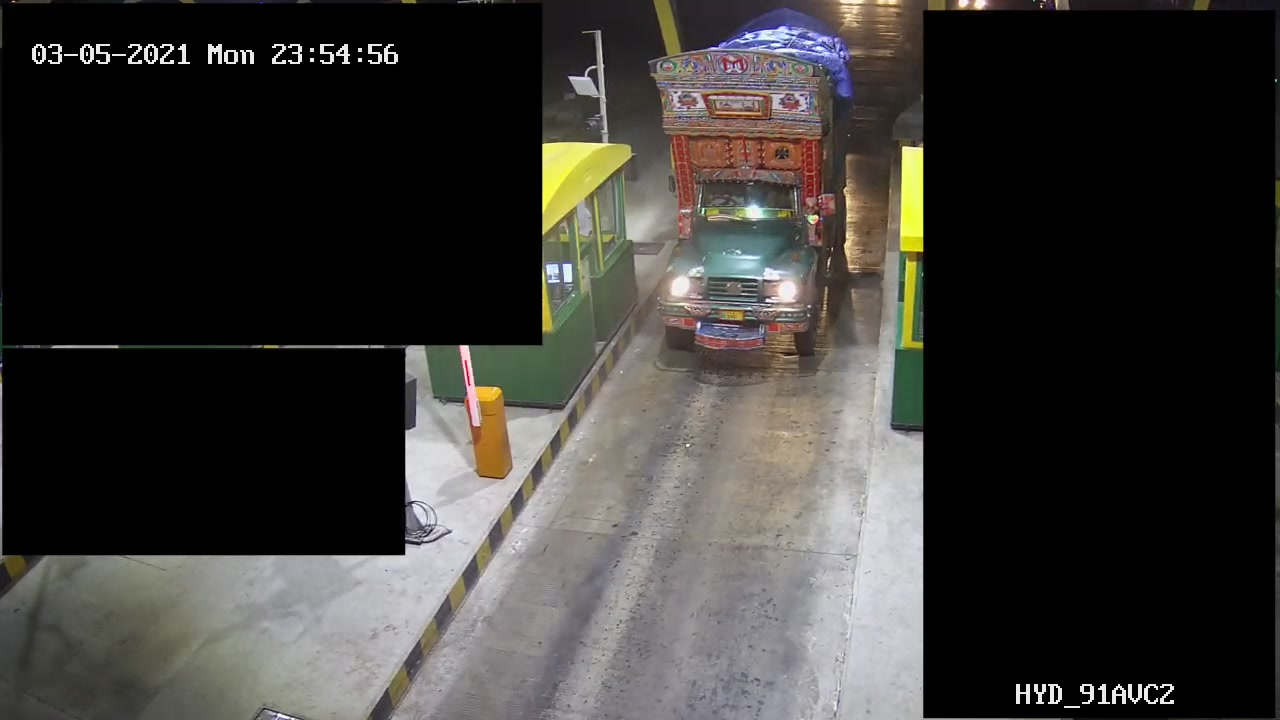F5: (646, 6, 860, 369)
